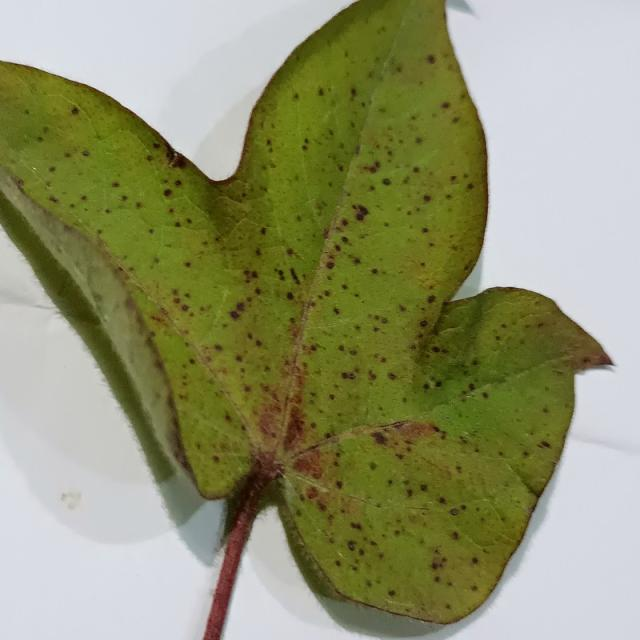Bacterial_Blight: (230, 296, 287, 357), (281, 400, 310, 453), (392, 420, 437, 441), (122, 293, 149, 327), (576, 346, 612, 369), (345, 200, 373, 224), (61, 491, 81, 510), (167, 151, 187, 169), (229, 301, 247, 320), (272, 464, 289, 483), (430, 556, 446, 571), (371, 431, 387, 445), (362, 162, 380, 174), (305, 486, 319, 501), (524, 501, 537, 517), (289, 267, 301, 283), (371, 314, 387, 325), (245, 270, 258, 280), (323, 227, 333, 239), (14, 177, 24, 189), (342, 371, 355, 380), (552, 368, 566, 376), (275, 269, 285, 280), (426, 54, 436, 64), (367, 371, 377, 381), (350, 521, 361, 530), (582, 356, 593, 365), (325, 261, 335, 270), (347, 541, 356, 551), (340, 218, 349, 228), (368, 461, 378, 470), (48, 195, 59, 203), (540, 441, 551, 449), (163, 188, 172, 197), (427, 295, 436, 304), (387, 372, 397, 380), (286, 291, 294, 300), (382, 178, 391, 186), (419, 319, 428, 327), (450, 508, 459, 516), (419, 484, 428, 492), (451, 531, 459, 540), (335, 480, 343, 489), (406, 488, 414, 497), (438, 496, 447, 504), (350, 87, 357, 97), (71, 107, 79, 115), (286, 248, 294, 256), (423, 194, 431, 202), (399, 304, 407, 312), (235, 354, 243, 362), (388, 589, 396, 597), (42, 126, 50, 134), (152, 141, 160, 149), (243, 385, 251, 393), (81, 150, 90, 157), (441, 102, 450, 109), (213, 344, 222, 351), (48, 166, 56, 173), (435, 380, 443, 387), (370, 268, 378, 275), (260, 227, 267, 235), (181, 304, 189, 311), (174, 179, 182, 186), (412, 166, 420, 173), (450, 175, 458, 182), (421, 227, 429, 234), (349, 349, 357, 356), (415, 137, 423, 144), (471, 557, 479, 564), (213, 455, 220, 463), (433, 575, 440, 583), (470, 585, 478, 592), (60, 493, 67, 501), (333, 307, 340, 314), (135, 202, 142, 209), (184, 261, 191, 268), (482, 392, 489, 399), (153, 257, 160, 264), (288, 316, 295, 323), (328, 394, 335, 401), (188, 358, 195, 365), (334, 560, 341, 567), (445, 604, 452, 611), (112, 182, 120, 188), (318, 88, 324, 96), (121, 195, 128, 201), (174, 221, 181, 227), (168, 207, 174, 214), (80, 195, 87, 201), (341, 284, 348, 290), (387, 478, 393, 485), (542, 407, 549, 413)
Cotton: (0, 0, 611, 639)
